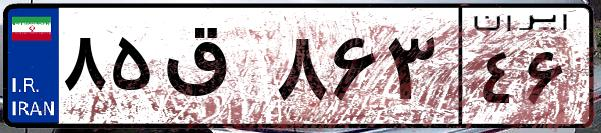3: (385, 28, 445, 110)
4: (475, 38, 525, 113)
5: (110, 28, 158, 98)
6: (330, 28, 385, 110), (525, 38, 570, 115)
8: (270, 28, 330, 110), (57, 26, 110, 100)
ق: (158, 20, 270, 120)
